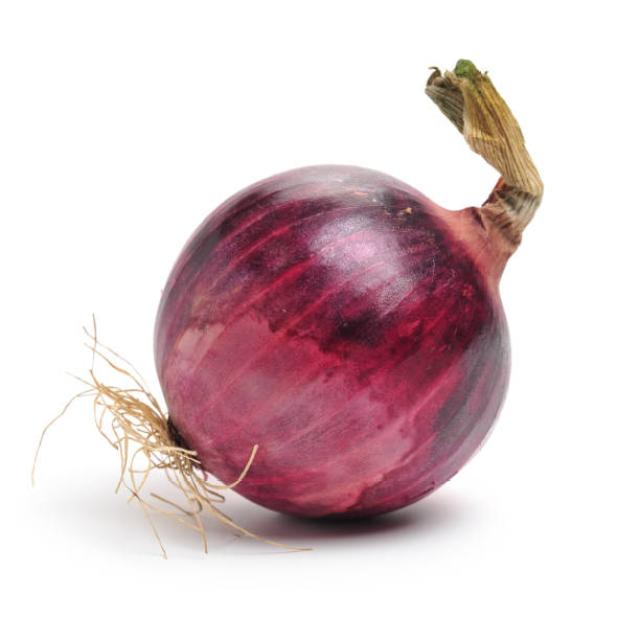onion: (146, 147, 514, 524)
